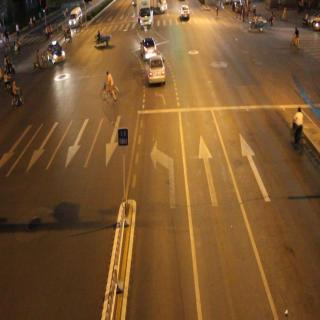BigCar: (138, 2, 154, 32)
Car: (147, 56, 167, 84), (139, 35, 156, 57), (47, 38, 64, 60), (67, 7, 86, 26)
